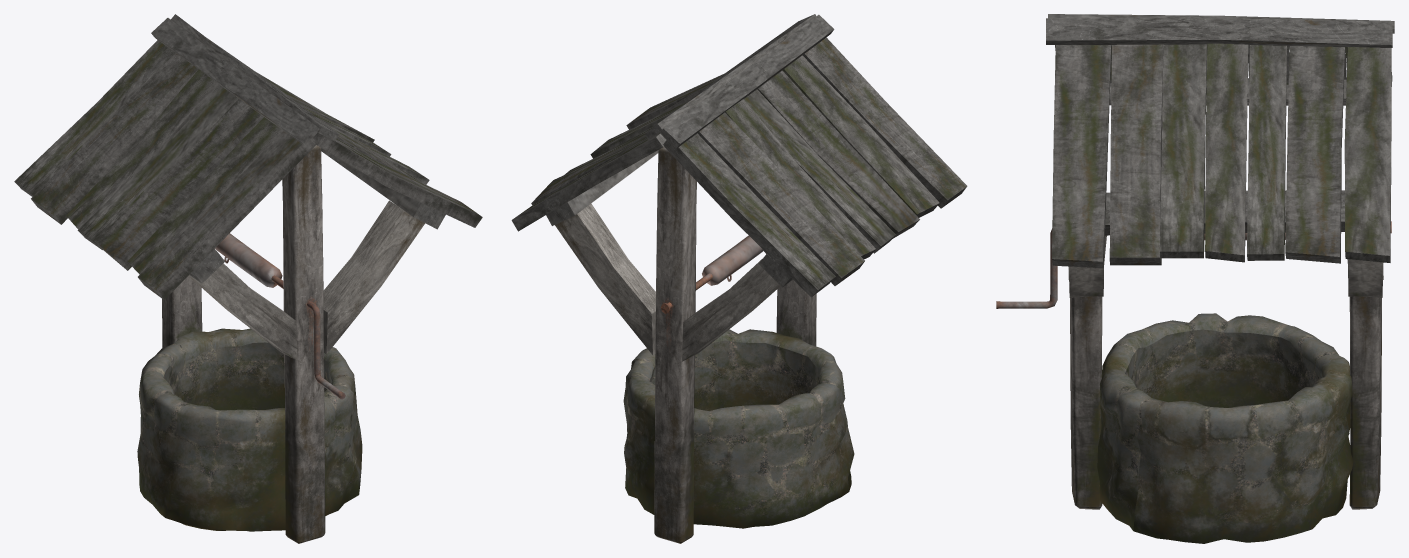
The model's file is old_village_well.glb.
3 renders of one model, left to right at view 1: azimuth 30°, elevation 25°; view 2: azimuth 150°, elevation 25°; view 3: azimuth 270°, elevation 25°, orthographic. The views are drawn at different scales.
Parts seen in each view (by area): view 1: SM_OldWell; view 2: SM_OldWell; view 3: SM_OldWell.
Part boxes in pixels (x1,y1,x2,y2): SM_OldWell: [14, 14, 482, 543]; SM_OldWell: [511, 14, 967, 543]; SM_OldWell: [996, 14, 1394, 543].
Bounding box in the file's own units: 2.46 × 3.09 × 2.3.
1 material, 1 textured.
